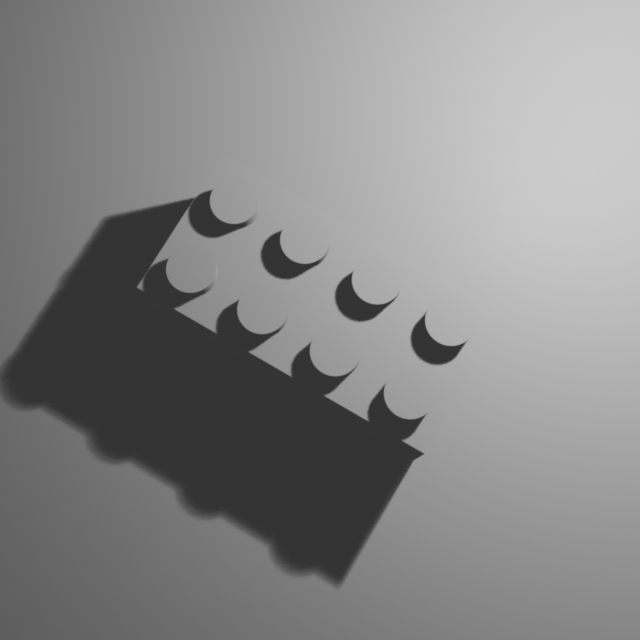lego_2x4: (134, 148, 508, 460)
